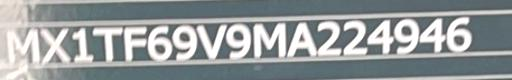letter: (2, 26, 42, 64), (251, 20, 289, 58), (36, 26, 72, 64), (194, 21, 228, 60), (364, 17, 396, 55), (286, 19, 318, 57), (89, 25, 123, 59), (444, 15, 474, 53), (224, 20, 252, 60), (392, 16, 420, 55), (342, 18, 370, 57), (314, 19, 342, 58), (146, 22, 174, 61), (418, 16, 446, 54), (121, 24, 149, 62), (171, 22, 197, 61), (68, 25, 94, 63)
